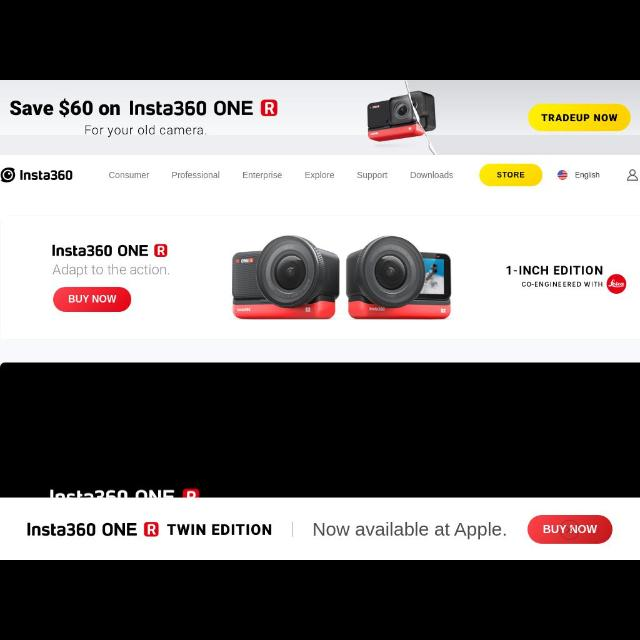icon: (561, 520, 579, 540), (558, 170, 568, 180)
image: (1, 82, 640, 156), (232, 236, 340, 320), (346, 236, 452, 320), (2, 166, 72, 184), (608, 274, 626, 294)
text: (11, 100, 278, 136), (52, 244, 170, 276), (313, 522, 505, 540), (27, 522, 273, 536), (506, 265, 604, 287), (50, 489, 200, 497), (542, 114, 618, 122), (544, 524, 596, 534), (172, 170, 220, 180), (242, 170, 282, 180), (69, 295, 117, 303), (410, 171, 454, 179), (496, 171, 526, 179), (576, 170, 600, 180), (109, 172, 149, 178), (305, 172, 335, 180), (358, 172, 388, 180), (628, 170, 638, 182)
textbutton: (529, 105, 631, 132), (526, 514, 612, 544), (54, 287, 130, 313), (480, 164, 542, 186)
toolbar: (1, 156, 639, 214)
